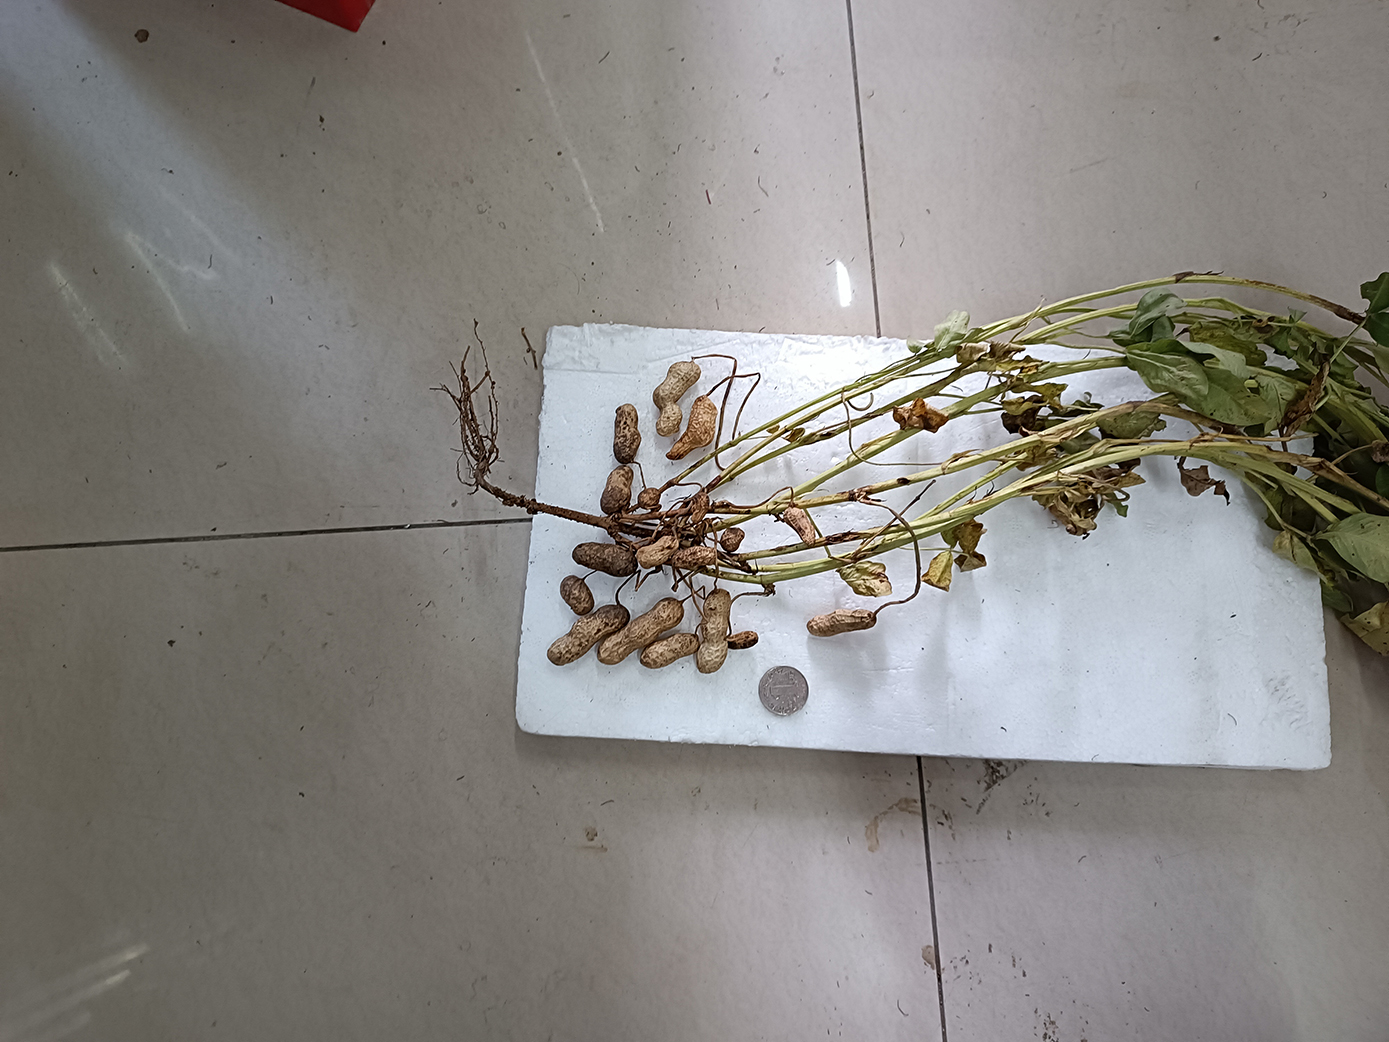h: (598, 597, 685, 665), (547, 604, 630, 667), (653, 360, 701, 435), (665, 396, 718, 461), (698, 589, 728, 675), (640, 632, 701, 669), (806, 607, 877, 637), (599, 465, 633, 518), (613, 404, 641, 463), (783, 506, 817, 547), (636, 536, 678, 567), (674, 546, 719, 568), (690, 493, 709, 530), (719, 526, 746, 553), (726, 630, 760, 649), (637, 488, 661, 511)
l: (572, 542, 637, 578), (560, 576, 597, 616)
